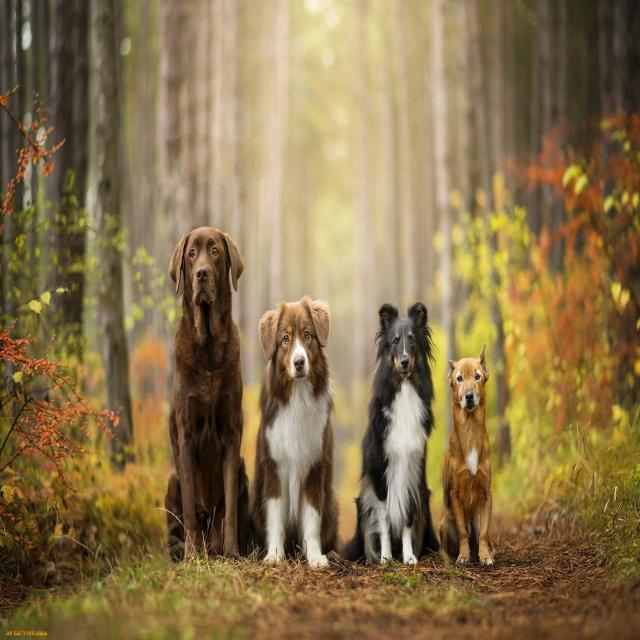Dogs: (162, 224, 252, 574), (246, 292, 344, 574), (338, 301, 432, 573), (434, 347, 496, 571)
